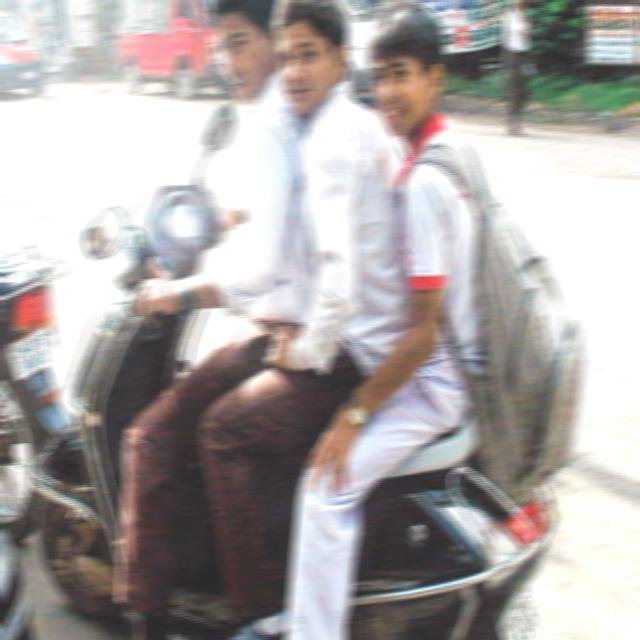Without Helmet: (198, 0, 280, 101)
